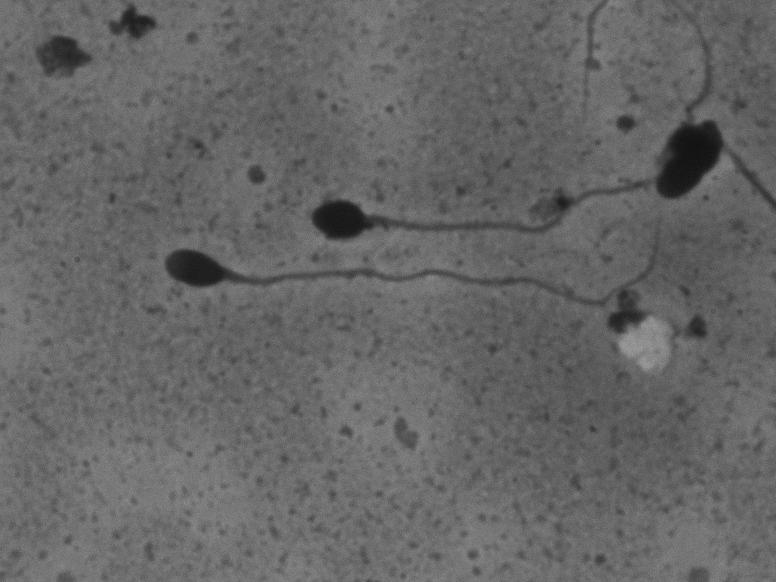Abnormal: (297, 5, 723, 246)
Normal: (148, 205, 696, 315)
